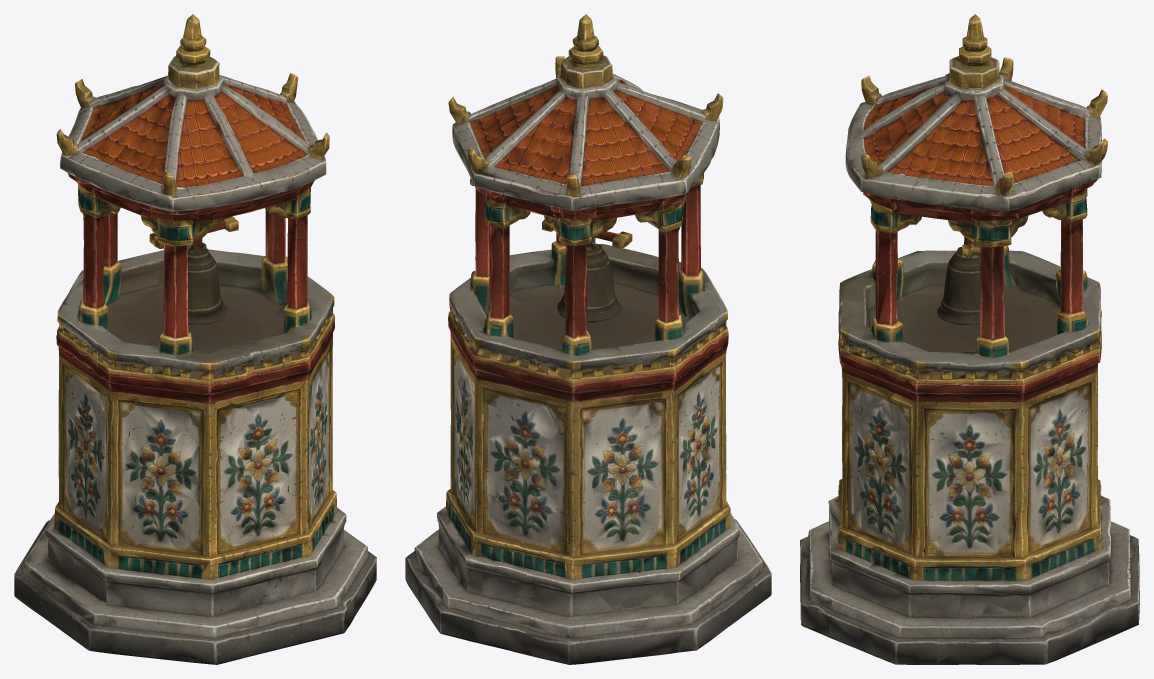
The model's file is bq_sword_pav.mid.glb.
The picture shows the model from 3 angles, left to right: view 1: azimuth 30°, elevation 25°; view 2: azimuth 150°, elevation 25°; view 3: azimuth 270°, elevation 25°; orthographic projection.
Visible parts, largest first — view 1: mesh_node; view 2: mesh_node; view 3: mesh_node.
Part boxes in pixels (x1,y1,x2,y2): mesh_node: (14, 14, 376, 664); mesh_node: (405, 14, 771, 664); mesh_node: (800, 14, 1139, 664).
Size of the model in its own units: 1.01 by 1.9 by 1.01.
1 material, 1 textured.
